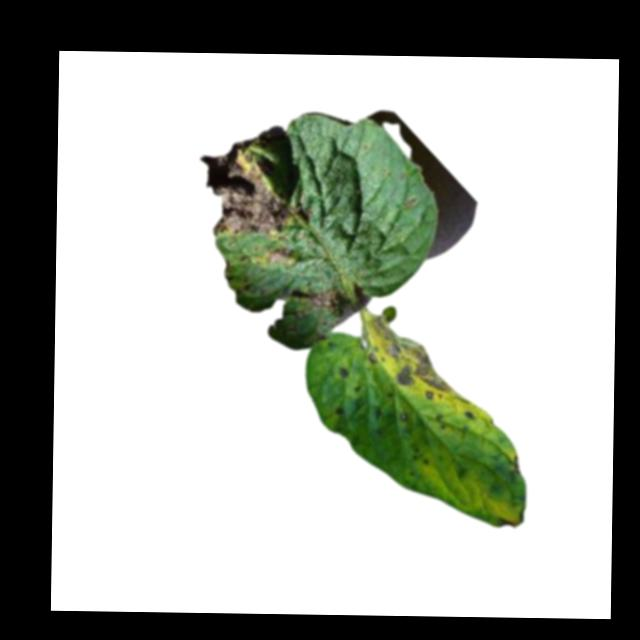Early_blight: (197, 133, 310, 238), (361, 308, 456, 400), (309, 285, 350, 316), (496, 508, 526, 530), (265, 246, 295, 267), (335, 407, 345, 422)
